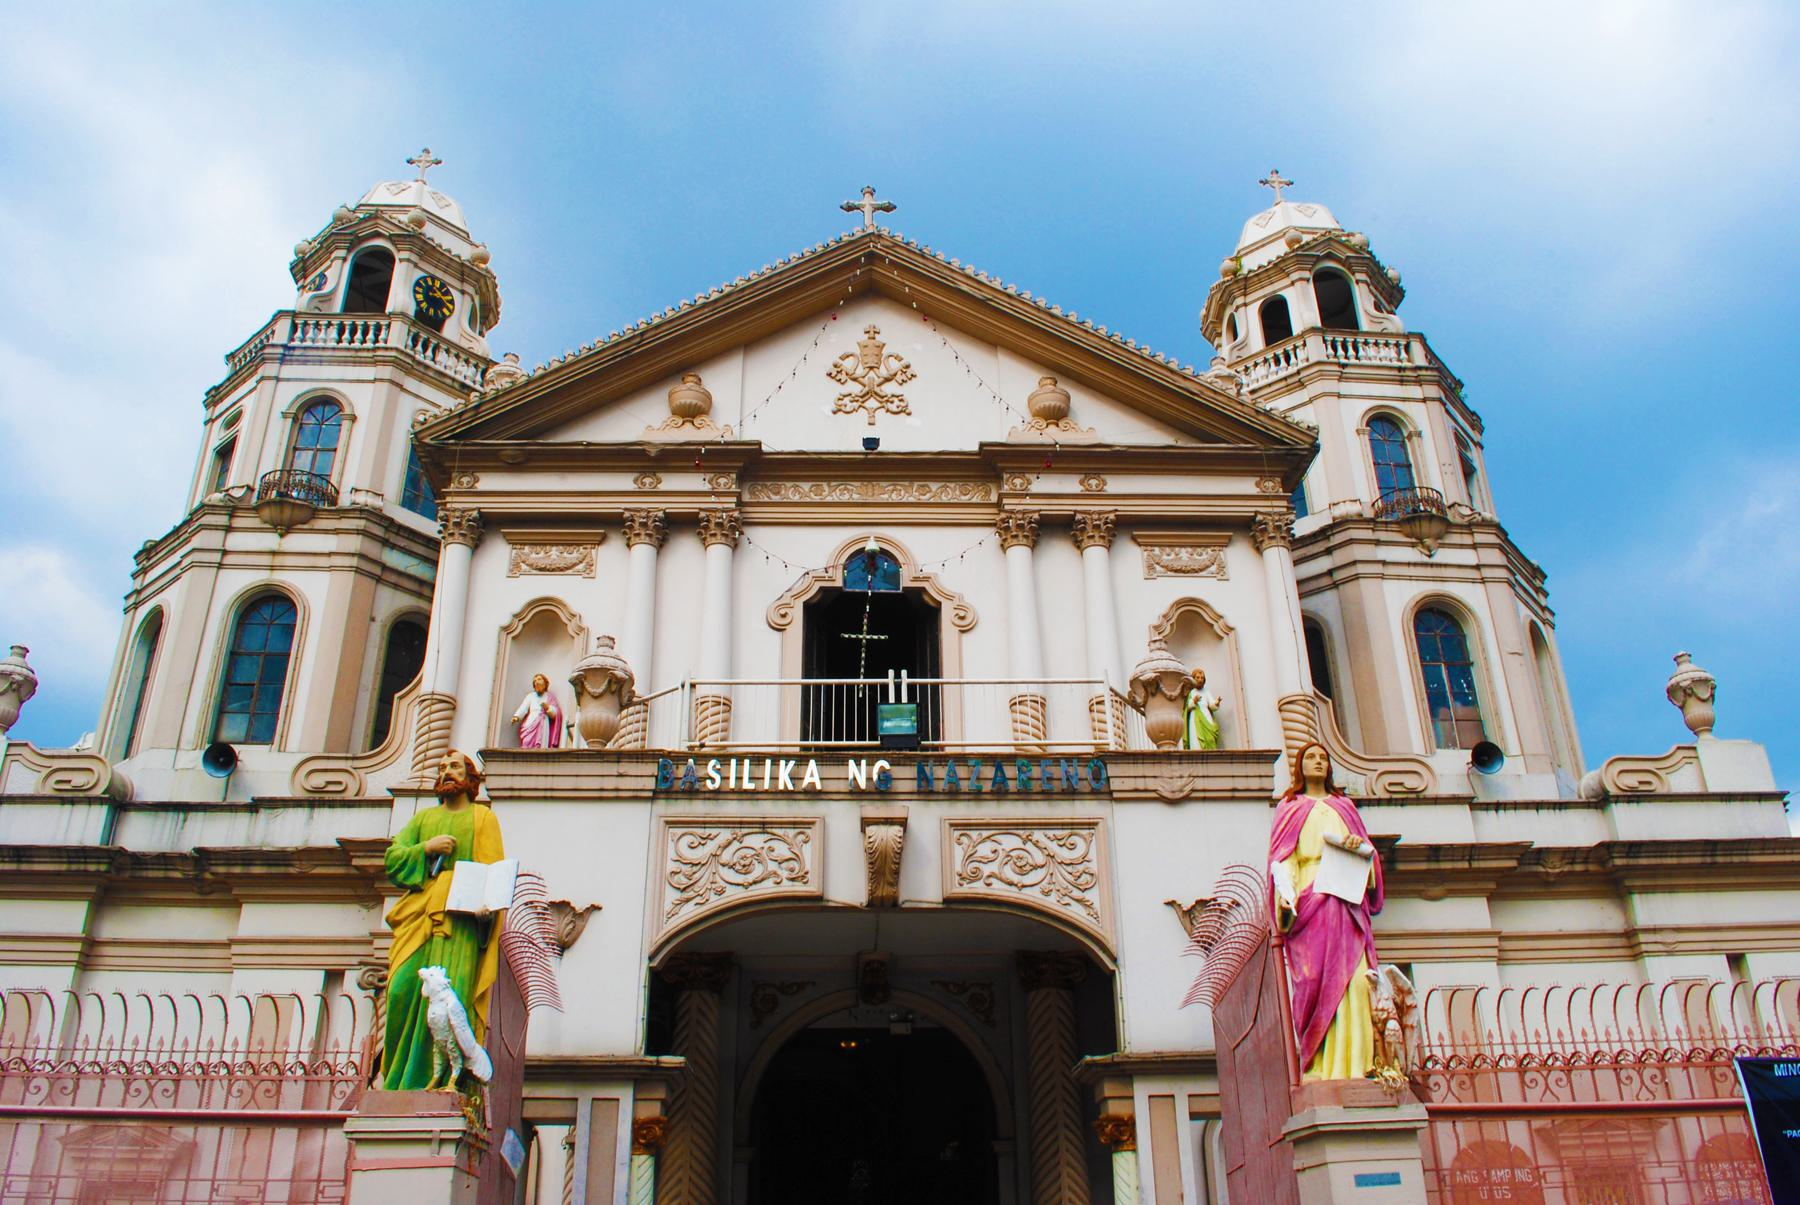quiapo_church_quiapo_manila: (77, 130, 1666, 1183)
